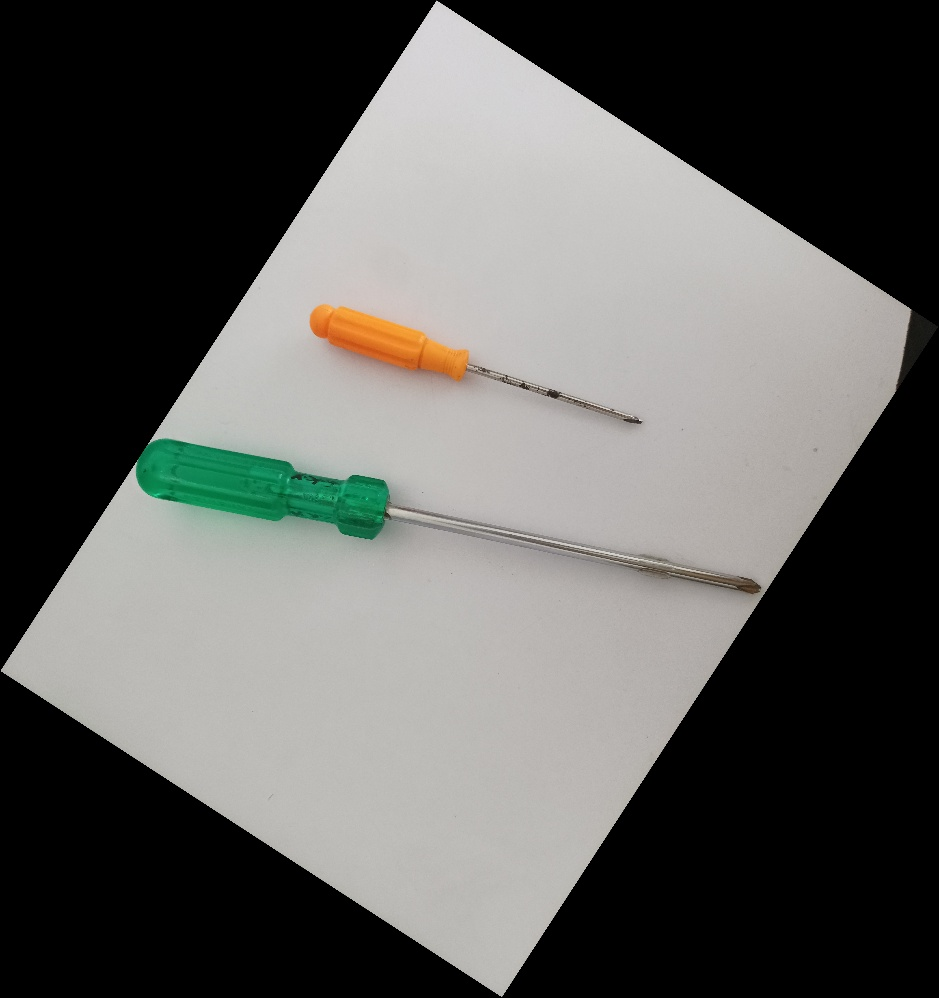screwdriver: (134, 435, 764, 599), (306, 297, 646, 431)
